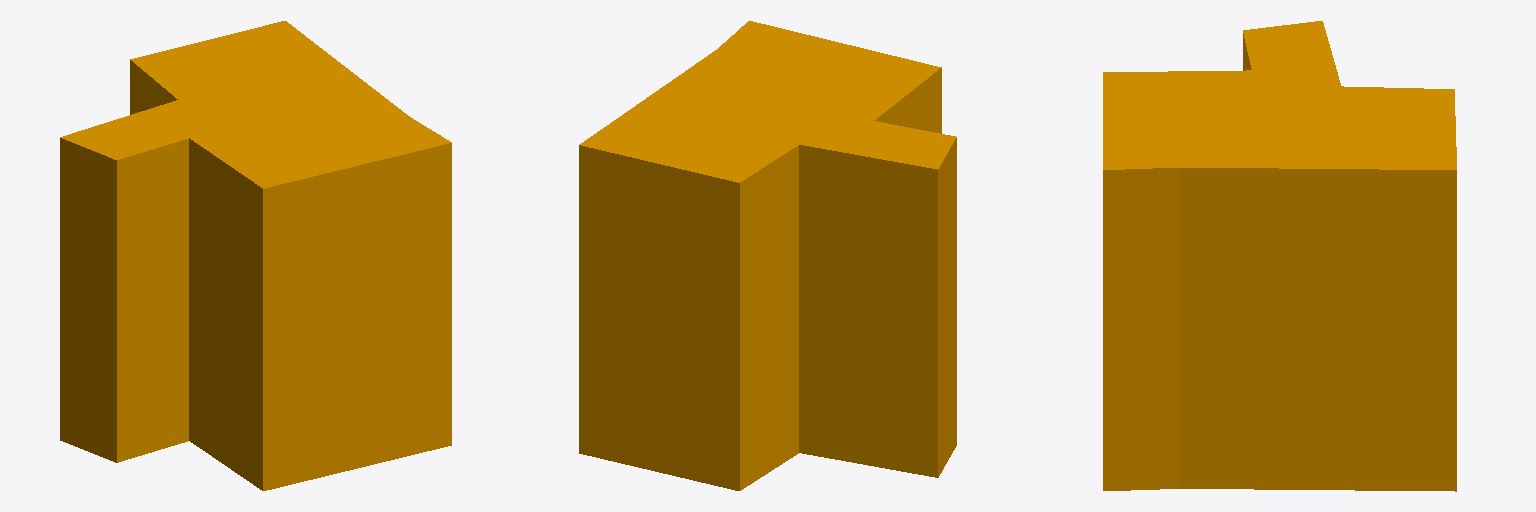
The robot description file, URDF, robot "object":
<?xml version="1.0"?>
<robot name="object">
  <link name="object">
    <visual>
      <origin xyz="0 0 0"/>
      <geometry>
        <mesh filename="meshes/polygon/poly_70_s.obj" scale=".03 .03 .03"/>
      </geometry>
    </visual>
    <collision>
  <origin xyz="0 0 0"/>
  <geometry>
    <mesh filename="meshes/polygon/poly_70_s_0decompose.obj" scale=".03 .03 .03"/>
<!--          <mesh filename="meshes/custom/obj0_ball.obj" scale=".05 .05 .05"/>-->
  </geometry>
</collision><collision>
  <origin xyz="0 0 0"/>
  <geometry>
    <mesh filename="meshes/polygon/poly_70_s_1decompose.obj" scale=".03 .03 .03"/>
<!--          <mesh filename="meshes/custom/obj0_ball.obj" scale=".05 .05 .05"/>-->
  </geometry>
</collision>

<!--    <collision>-->
<!--      <origin xyz="0 0 0"/>-->
<!--      <geometry>-->
<!--        <mesh filename="meshes/polygon/poly_70_s.obj" scale=".03 .03 .03"/>-->
<!--&lt;!&ndash;          <mesh filename="meshes/custom/obj0_ball.obj" scale=".05 .05 .05"/>&ndash;&gt;-->
<!--      </geometry>-->
<!--    </collision>-->
    <inertial>
      <density value="1000.0"/>
    </inertial>
  </link>
</robot>

--- Render facts (derived) ---
3 views of the same robot in one strip: view 1: azimuth 30°, elevation 25°; view 2: azimuth 150°, elevation 25°; view 3: azimuth 270°, elevation 25° (orthographic).
Model object with 1 links and 0 joints (none), rooted at object, posed every joint at zero.
Visible links, largest first — view 1: object; view 2: object; view 3: object.
Link boxes in pixels (x1=…): object: x1=60, y1=21, x2=451, y2=490; object: x1=579, y1=21, x2=956, y2=490; object: x1=1103, y1=21, x2=1456, y2=491.
Size in the robot's own frame: 0.06 by 0.06 by 0.06 metres.
Meshes: 1 distinct files referenced, 1 mesh visuals loaded (1 OBJ).
